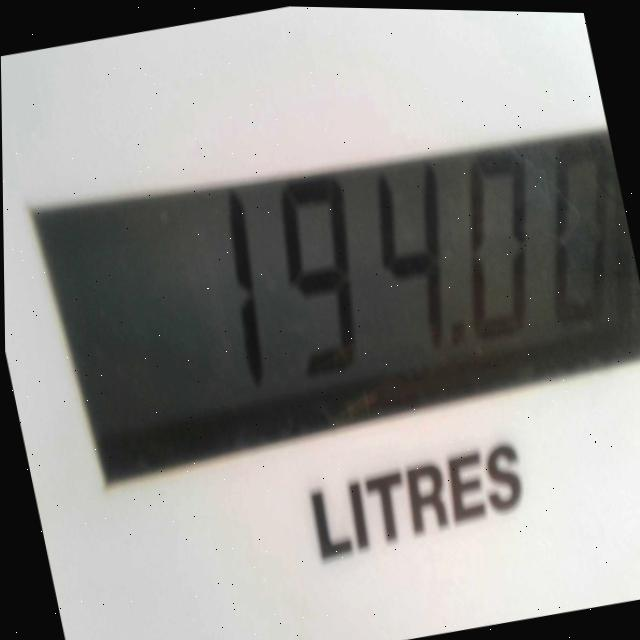.: (443, 289, 477, 361)
0: (434, 141, 562, 350), (533, 125, 640, 348)
1: (206, 183, 292, 399)
4: (355, 155, 460, 351)
9: (262, 161, 387, 395)
